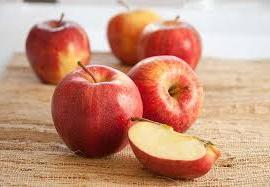apple: (50, 61, 142, 160), (126, 53, 205, 131), (127, 114, 218, 181), (24, 10, 96, 87), (139, 15, 205, 70), (106, 5, 159, 63)
